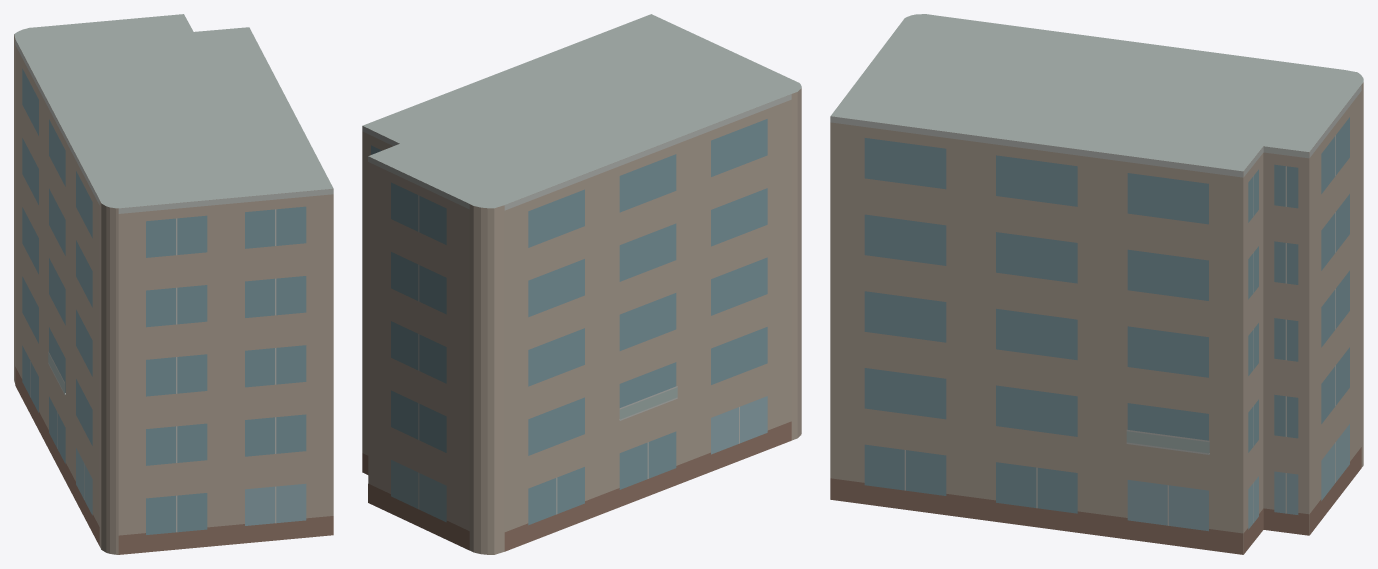
File: survey-upis-32869529.glb
The picture shows the model from 3 angles, left to right: view 1: azimuth 30°, elevation 25°; view 2: azimuth 150°, elevation 25°; view 3: azimuth 270°, elevation 25°; orthographic projection. The views are drawn at different scales.
Parts seen in each view (by area): view 1: survey-upis-32869529.tmp; view 2: survey-upis-32869529.tmp; view 3: survey-upis-32869529.tmp.
Part boxes in pixels (bbox=[...]): survey-upis-32869529.tmp: bbox=[14, 14, 333, 554]; survey-upis-32869529.tmp: bbox=[362, 14, 801, 554]; survey-upis-32869529.tmp: bbox=[830, 14, 1363, 554].
Bounding box in the file's own units: 13.3 × 15.1 × 19.04.
